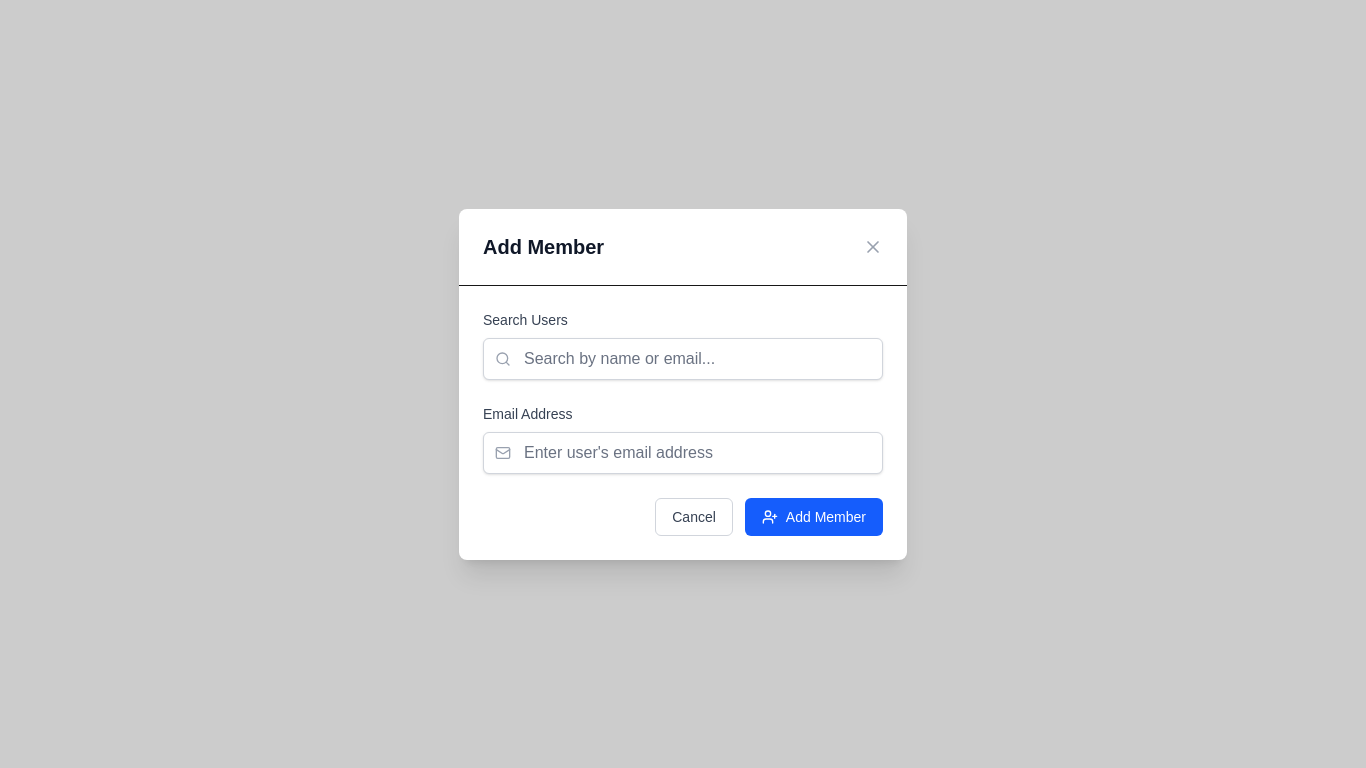
AddMemberModal › selects user from search results
This screenshot has width=1366, height=768.
Type "john" into the field with placeholder "Search by name or email..." at (683,358), box [483, 338, 883, 380]
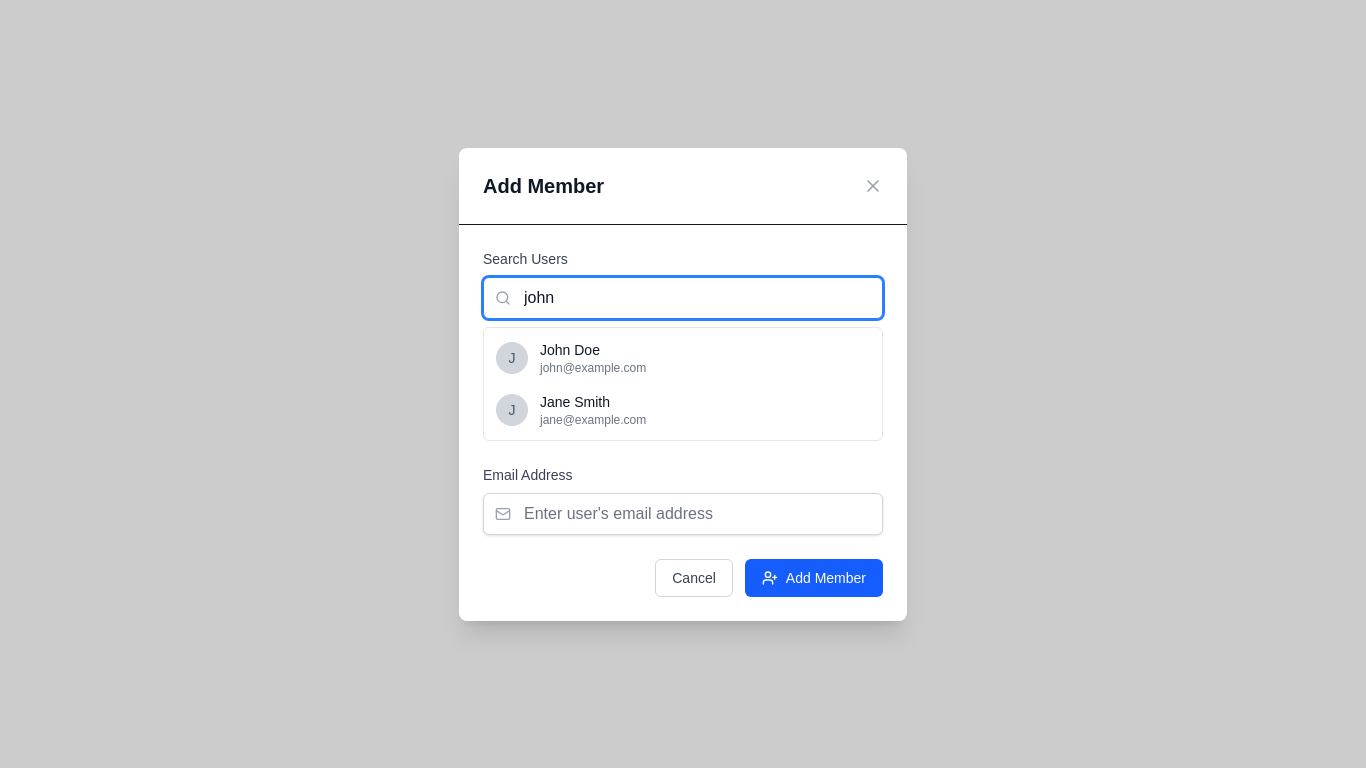
Check: the text "John Doe" is shown
Click on John Doe
Click the text "John Doe" at (570,350), box [540, 342, 600, 358]
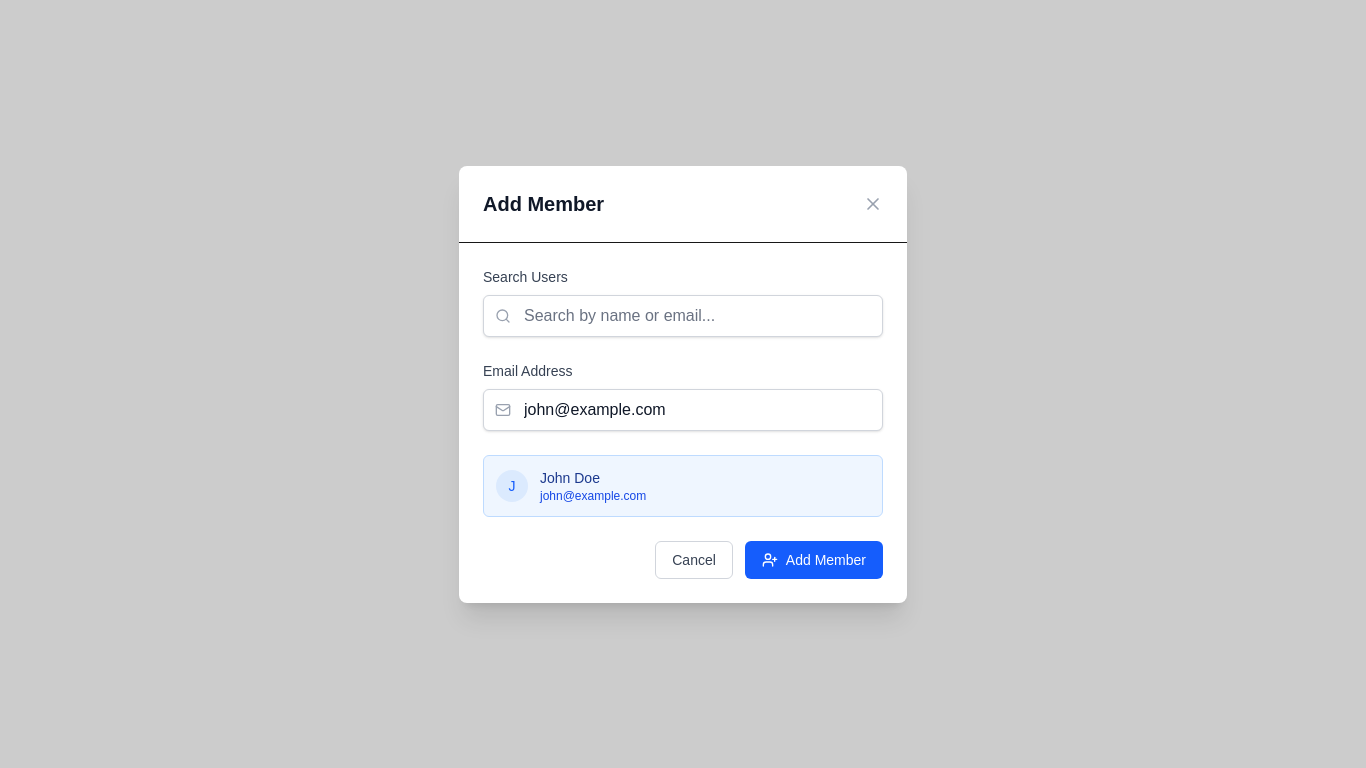
Check: the text "John Doe" is shown, box [540, 470, 600, 486]
Check: the field showing "john@example.com" is shown, box [483, 388, 883, 430]
